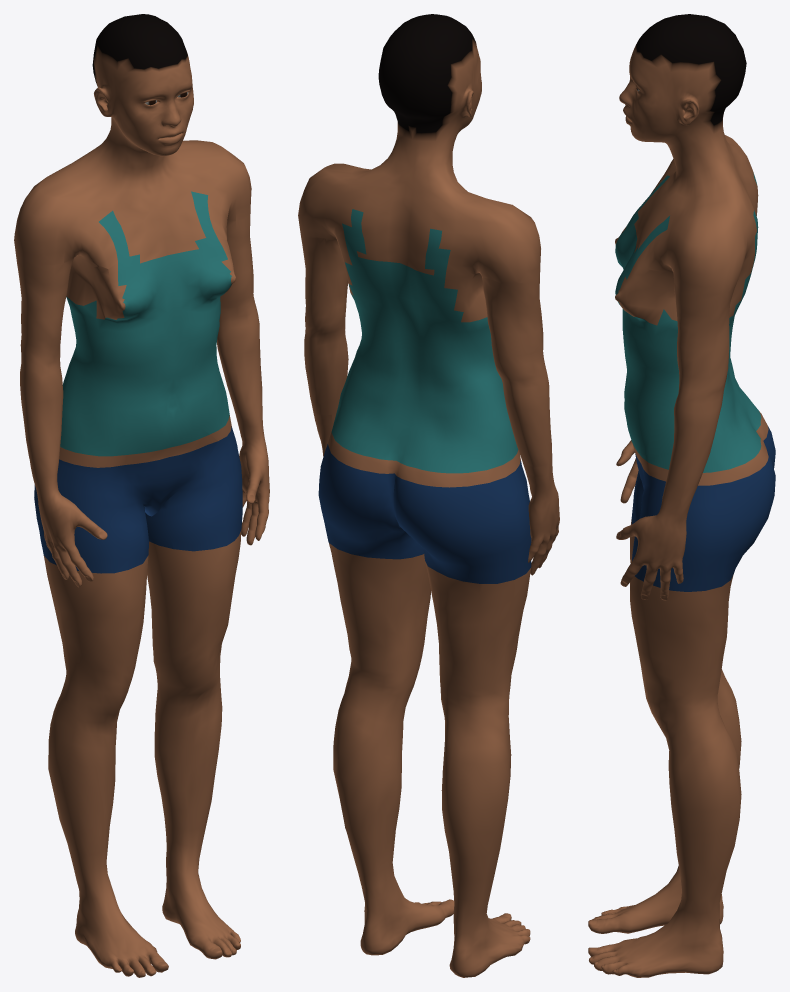
File: patient_f.glb
3 views of the same model, side by side, from view 1: azimuth 30°, elevation 25°; view 2: azimuth 150°, elevation 25°; view 3: azimuth 270°, elevation 25° (orthographic). The views are drawn at different scales.
Parts seen in each view (by area): view 1: patient; view 2: patient; view 3: patient.
Part boxes in pixels (bbox=[...]): patient: bbox=[14, 14, 269, 977]; patient: bbox=[298, 14, 559, 977]; patient: bbox=[588, 14, 775, 977].
Bounding box in the file's own units: 0.4353 × 1.63 × 0.298.
